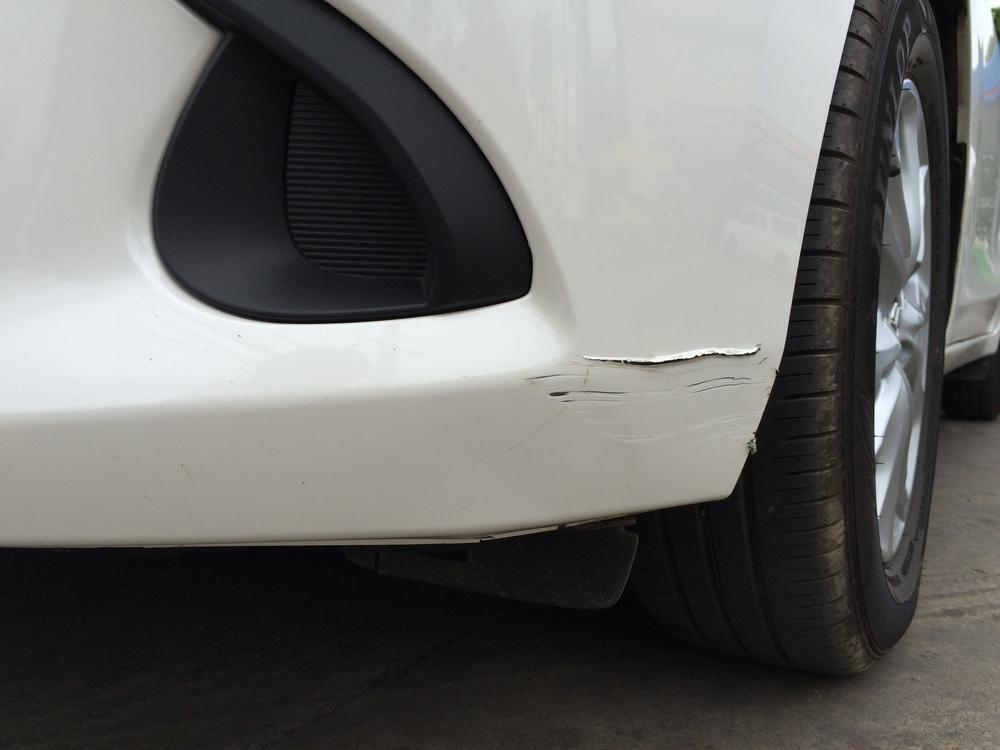scratch: (522, 341, 776, 452)
